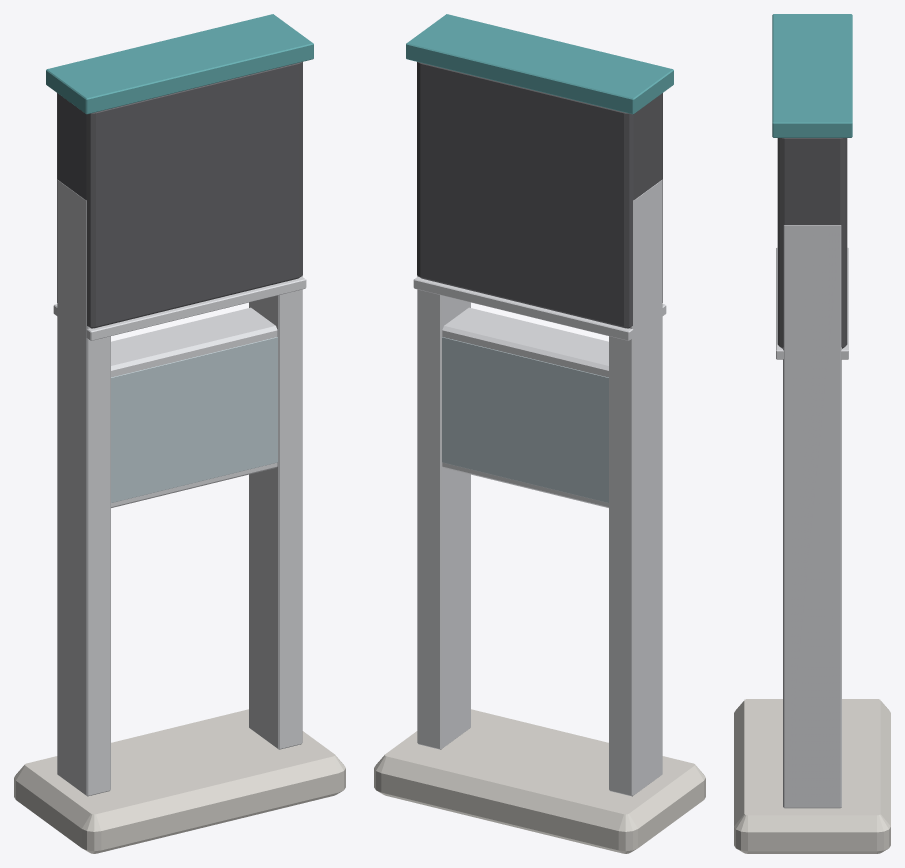
File: fast-food-and-drive-thru-pylon-sign-frame-6c785c7e__16207.glb
3 views of the same model, side by side, from view 1: azimuth 30°, elevation 25°; view 2: azimuth 150°, elevation 25°; view 3: azimuth 270°, elevation 25° (orthographic). The views are drawn at different scales.
Parts seen in each view (by area): view 1: pylon-sign-frame; view 2: pylon-sign-frame; view 3: pylon-sign-frame.
Part boxes in pixels (<box>): pylon-sign-frame: <box>14,14,345,853</box>; pylon-sign-frame: <box>374,14,705,853</box>; pylon-sign-frame: <box>734,14,890,853</box>.
Size of the model in its own units: 1.7 by 4.6 by 0.8999.
